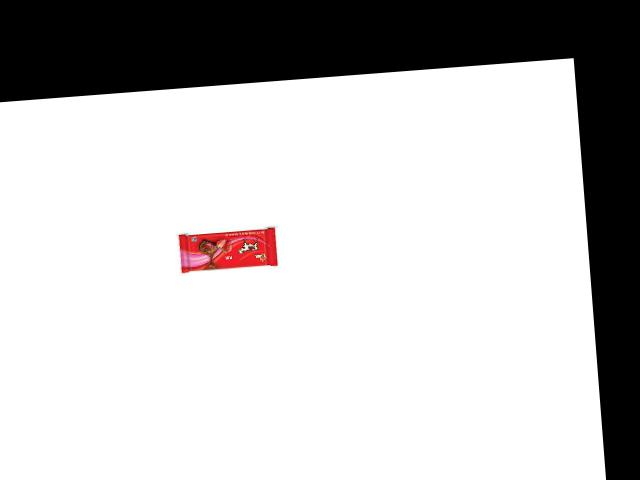chocolate: (177, 219, 285, 272)
